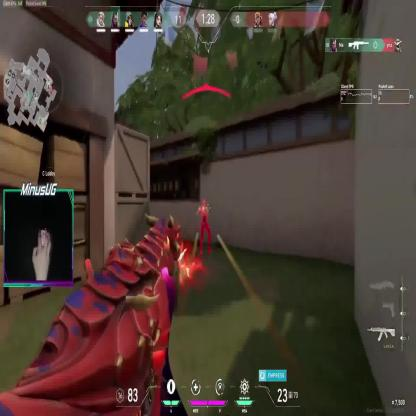enemy: (197, 198, 213, 256)
enemy_head: (201, 199, 207, 208)
